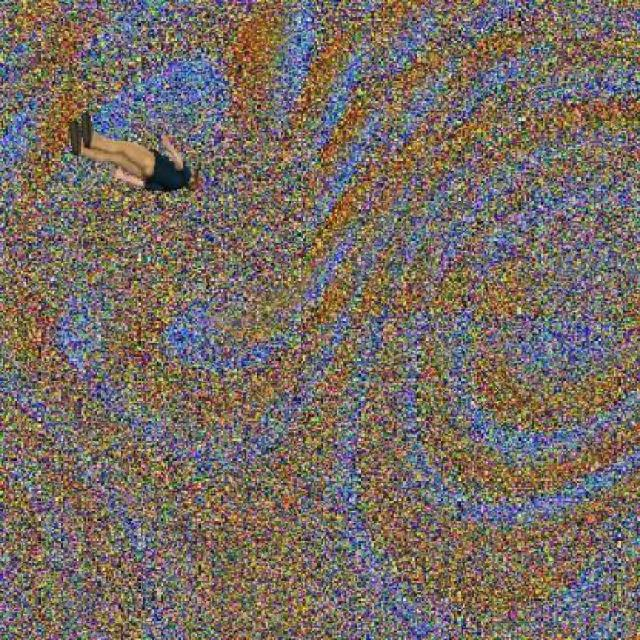Person: (70, 110, 207, 198)
